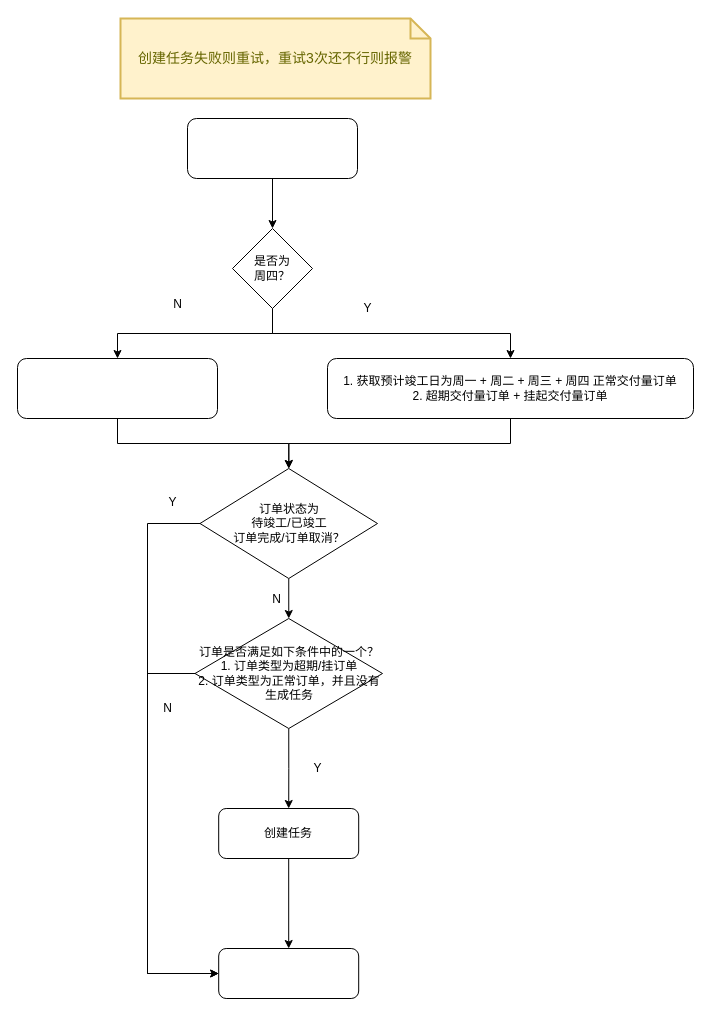
The diagram is 711 pixels wide and 1016 high, and some of its shapes have lost their labels. Each missing label, with the centre of its shape:
"1. 获取预计竣工日为当天 正常交付量订单" goes at (117,388).
"每周一到每周日 晚上 0点 创建任务" goes at (272,148).
"结束" goes at (288,973).
